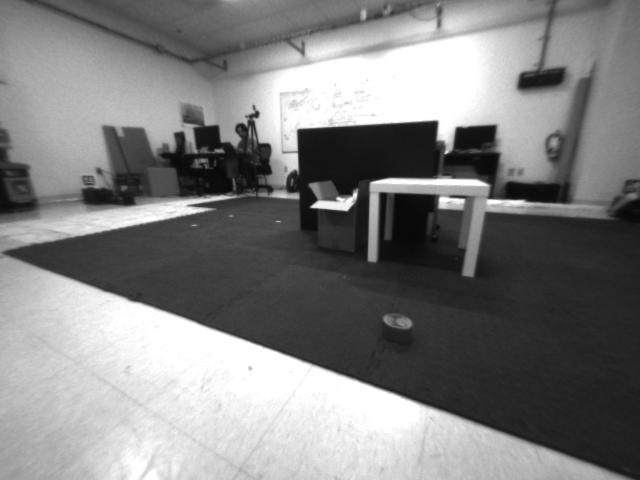dogtoy: (369, 301, 425, 362)
